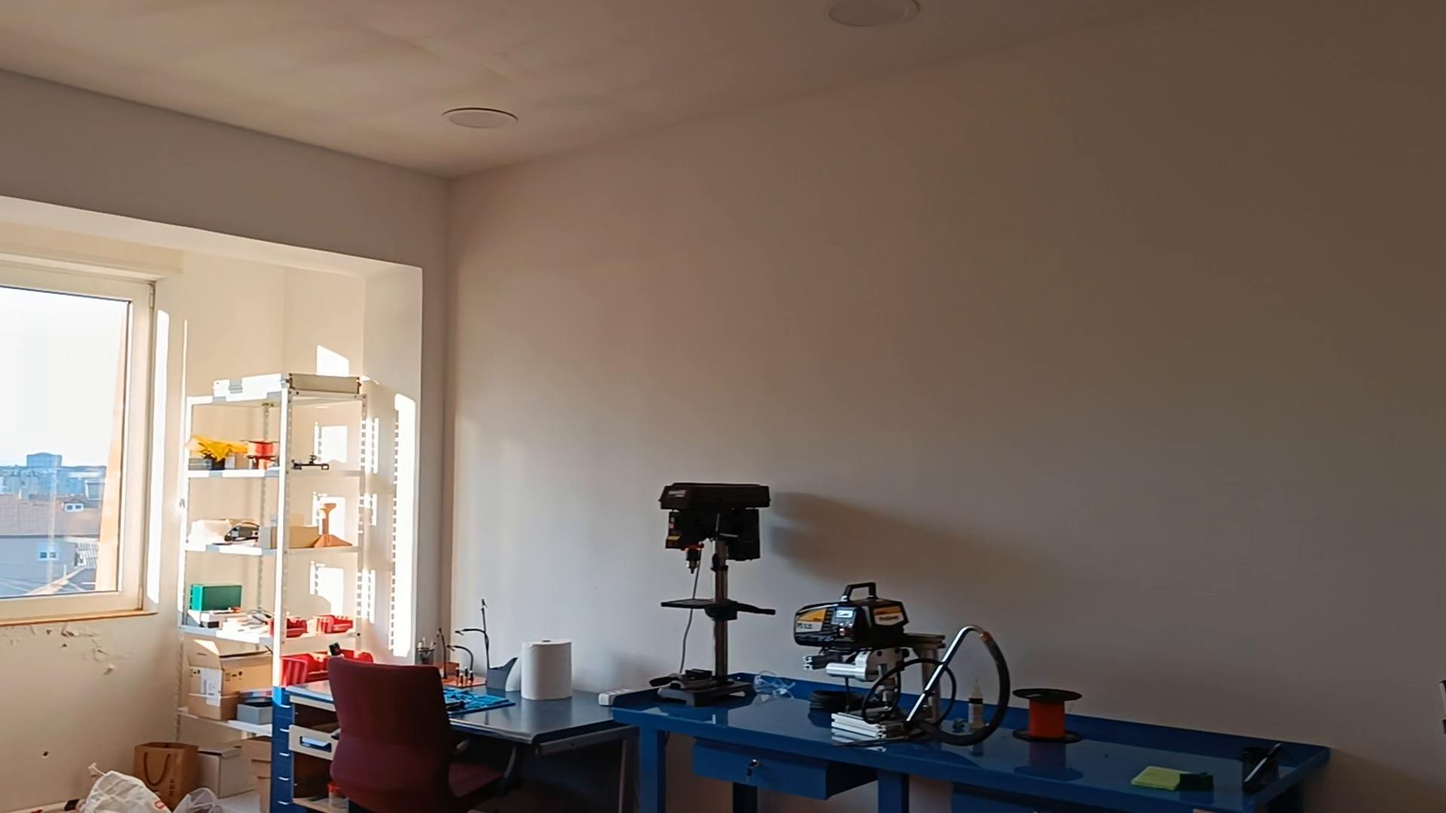ceiling: (0, 0, 1187, 175)
wall: (428, 2, 1445, 810), (5, 92, 446, 641), (8, 232, 358, 803)
